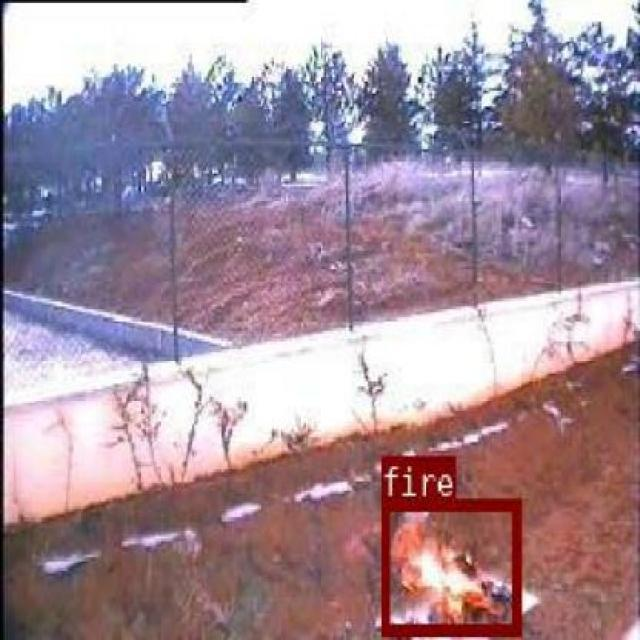fire: (380, 497, 518, 632)
